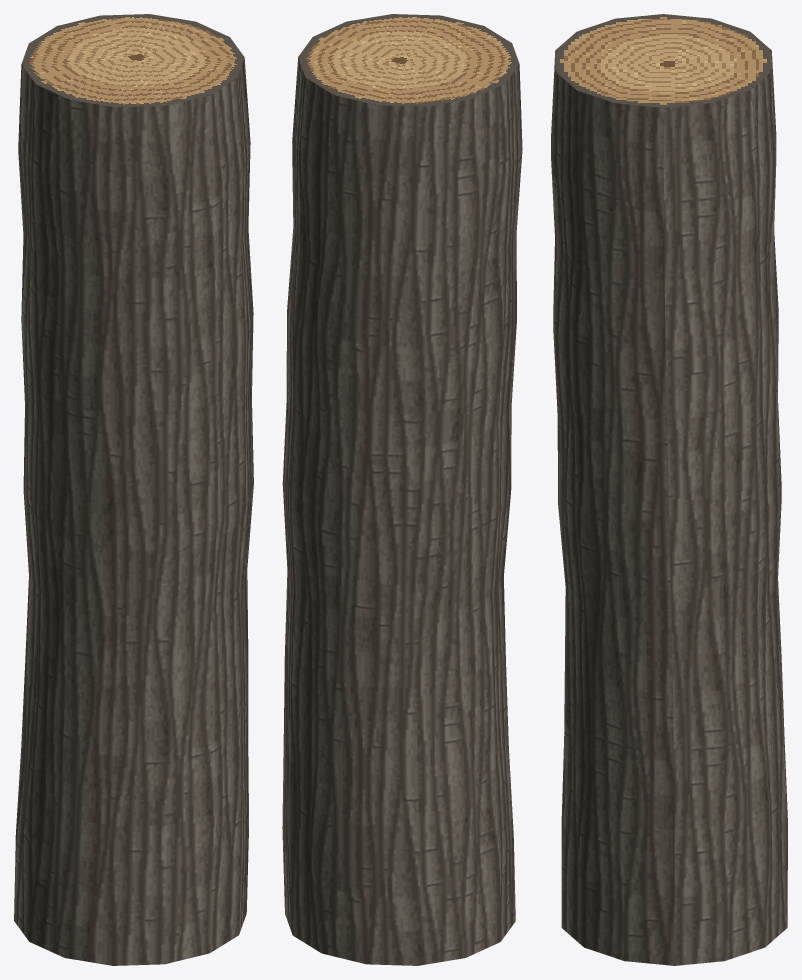
File: environment_elm_loghalf_v59.fbx
3 views of the same model, side by side, from view 1: azimuth 30°, elevation 25°; view 2: azimuth 150°, elevation 25°; view 3: azimuth 270°, elevation 25° (orthographic).
Parts seen in each view (by area): view 1: environment_elm_loghalf_v59; view 2: environment_elm_loghalf_v59; view 3: environment_elm_loghalf_v59.
Part boxes in pixels (x1,y1,x2,y2): environment_elm_loghalf_v59: (14,14,253,965); environment_elm_loghalf_v59: (282,14,522,965); environment_elm_loghalf_v59: (551,14,787,965).
Bounding box in the file's own units: 127 × 500 × 126.
Materials: 2 (2 with a texture image).
